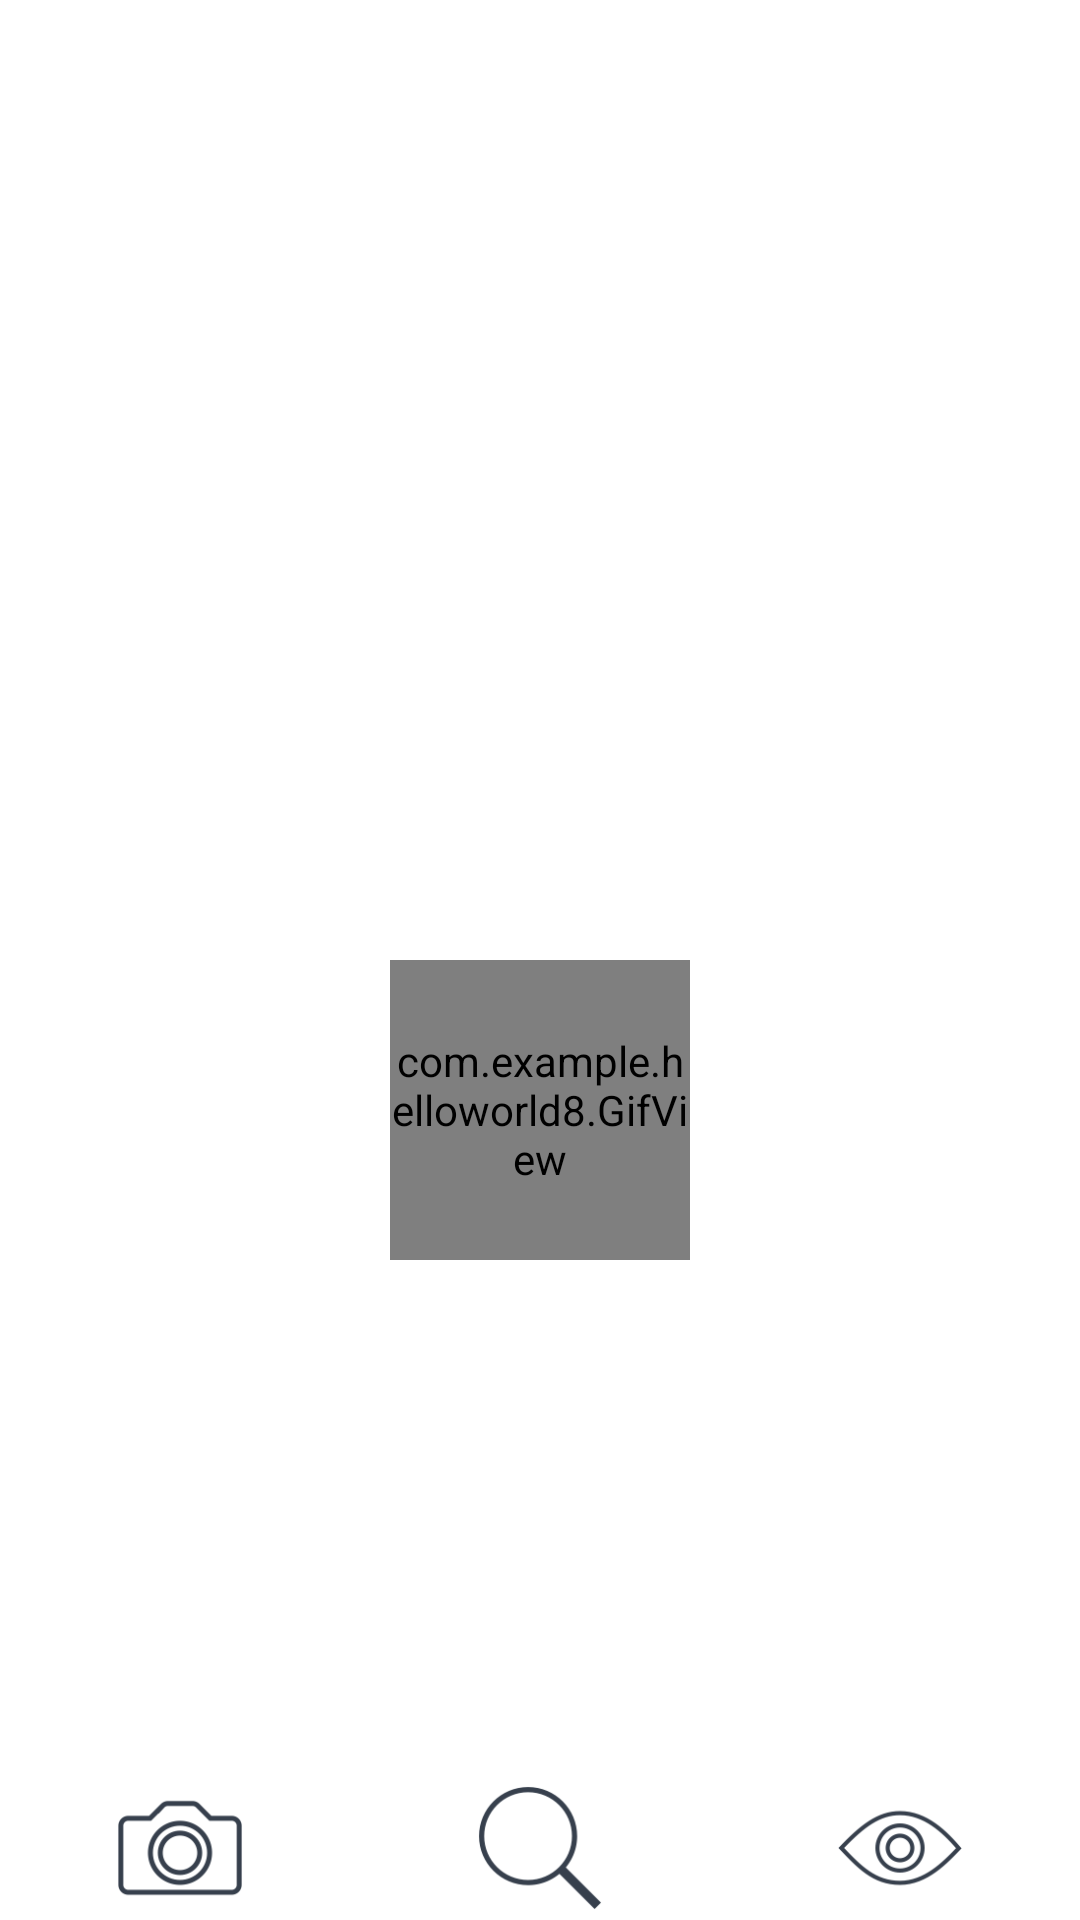

Screen size 1080 x 1920. Icon name, then its center in pixels as [x,y]:
camera: [180,1848]
search: [540,1848]
